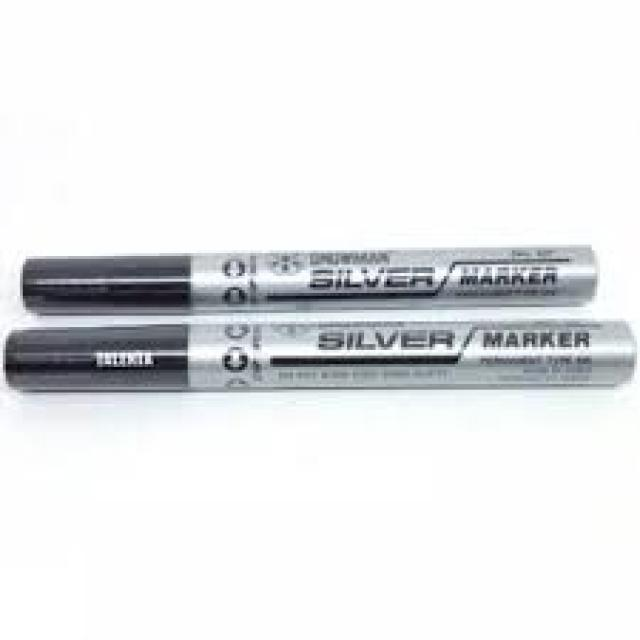marker: (7, 306, 631, 388), (25, 245, 601, 305)
